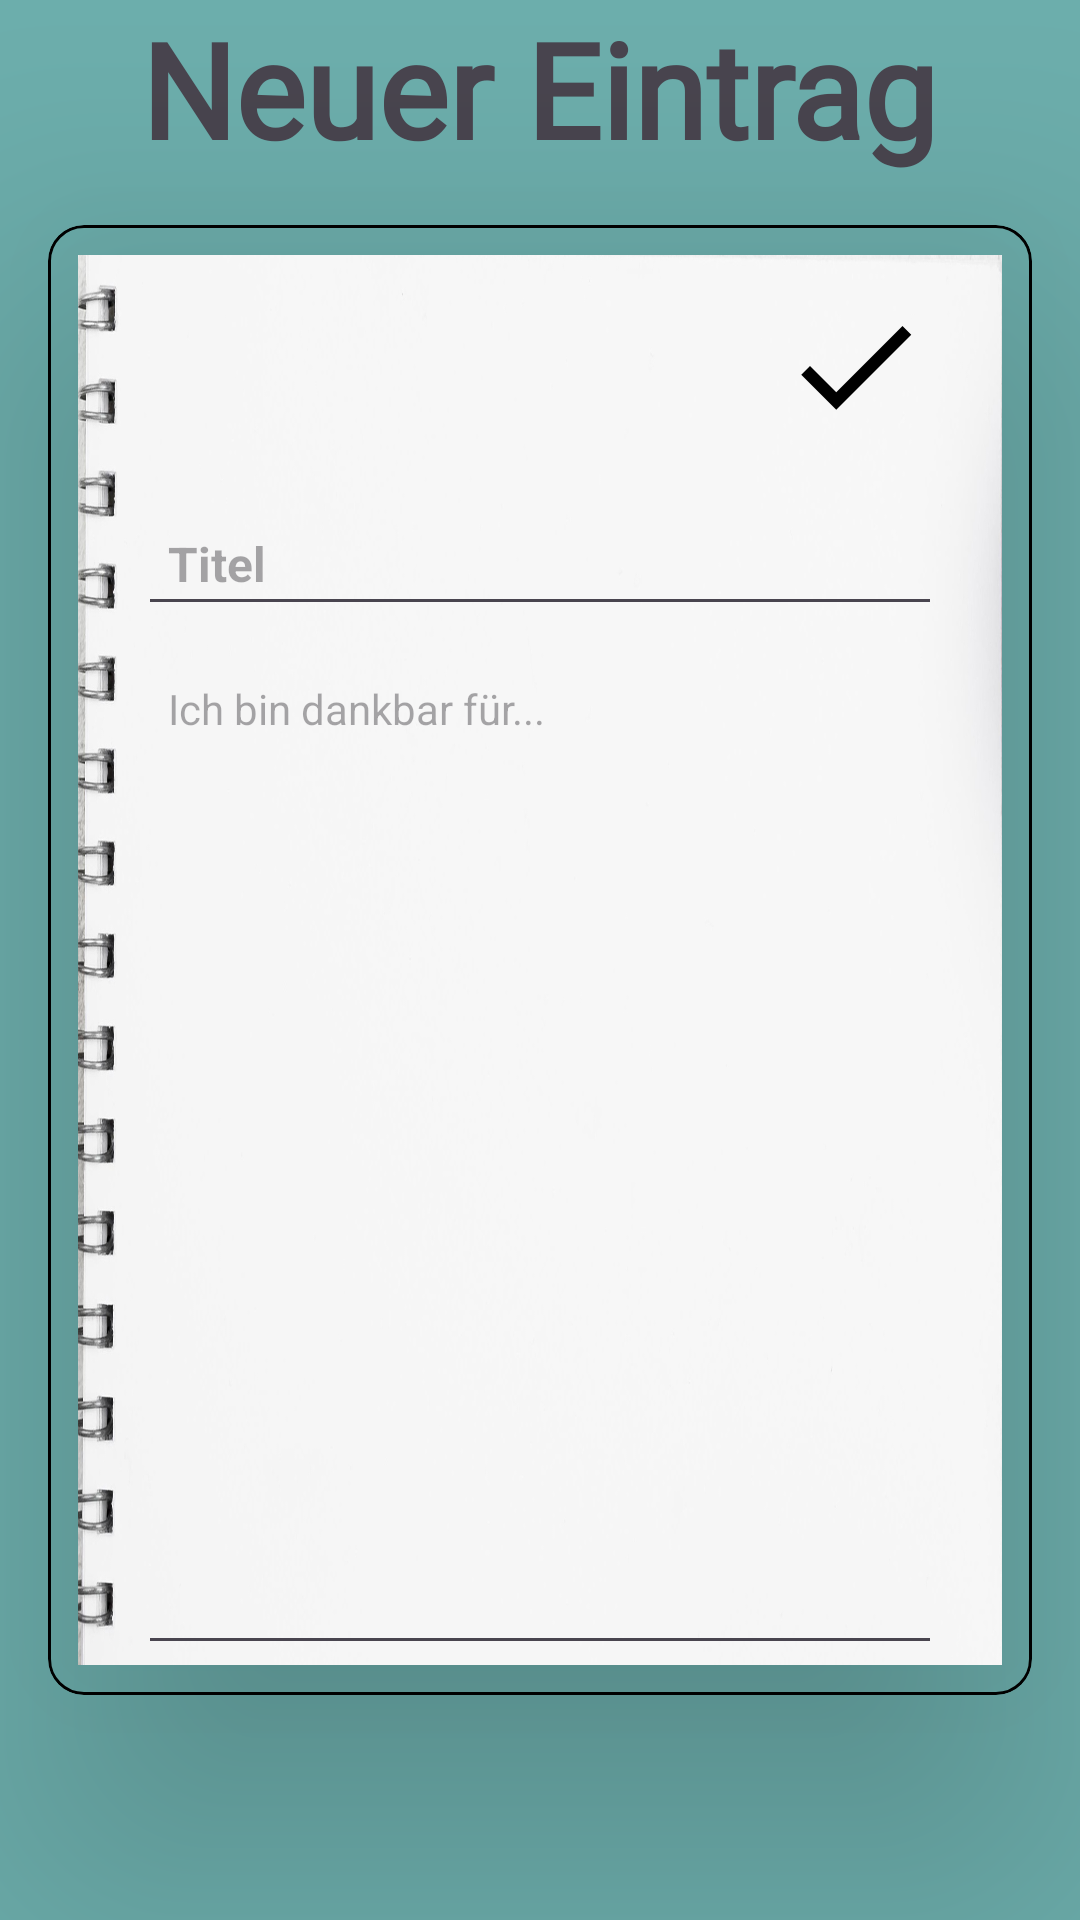

Named icons in this screenshot (1080px×1920px) and their bounding boxes, (left=x1, top=y1, right=x2, bottom=y2):
tick: (left=801, top=326, right=911, bottom=410)
